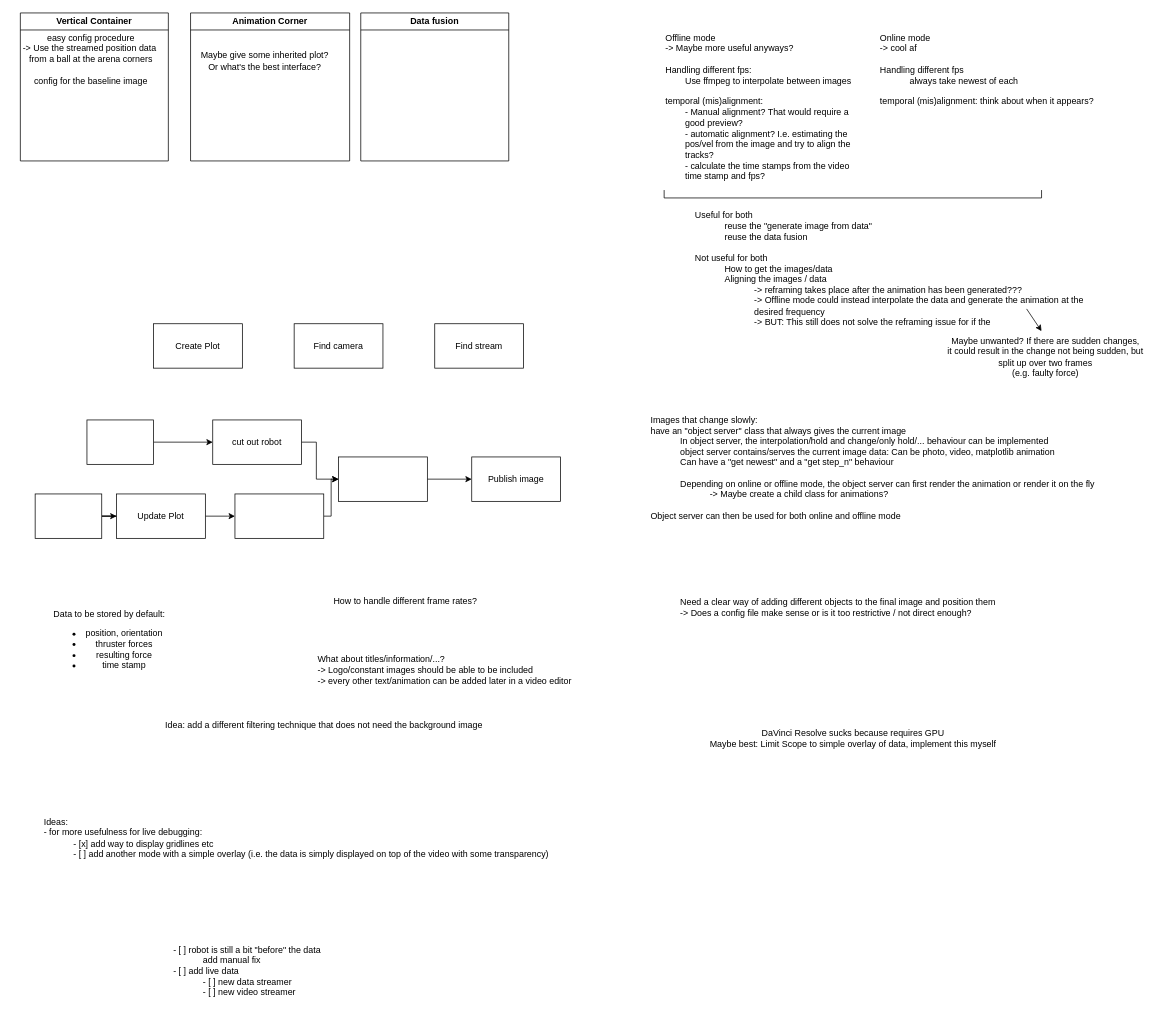
The diagram is 1165 pixels wide and 1018 high, and some of its shapes have lost their labels. The box of each missing label's shape, as (x1, y1, x2, y2) in pixels:
Camera stream: (86, 419, 154, 464)
Fusion: (338, 456, 427, 501)
Position data Other data: (34, 493, 102, 538)
Project image: (234, 493, 324, 538)
